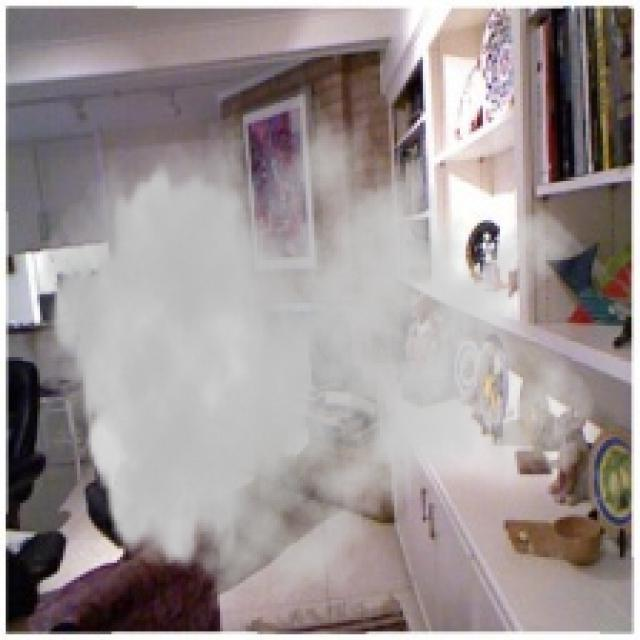Smoke: (31, 57, 598, 623)
